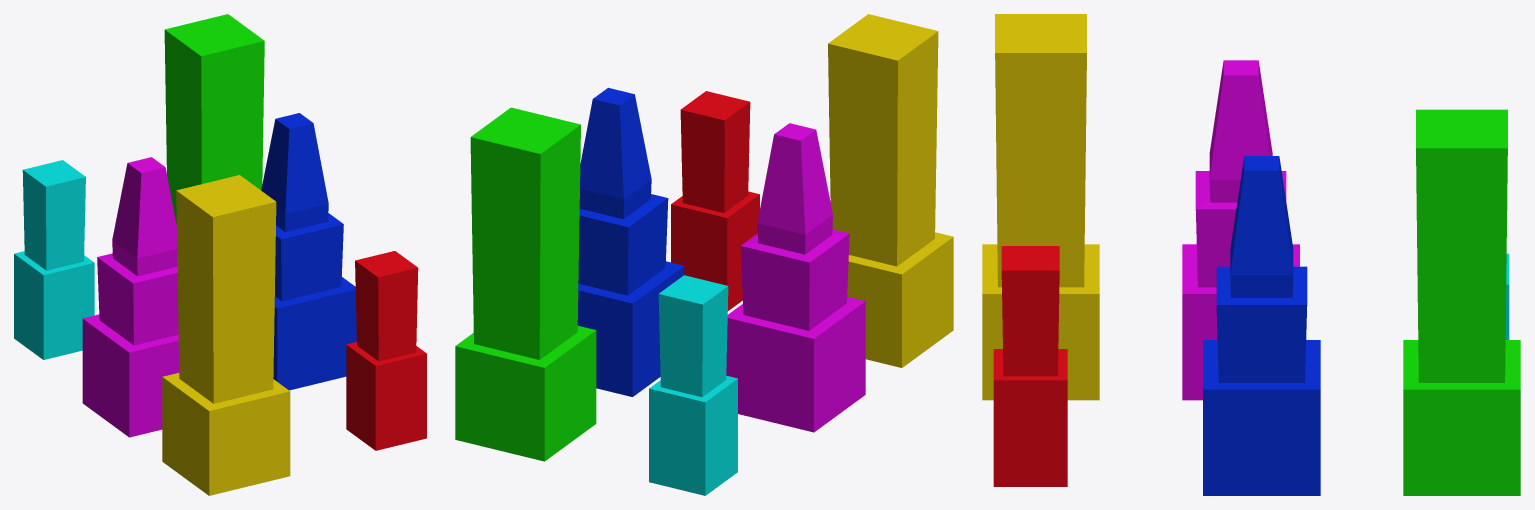
Rendered from materials.glb.
3 views of the same model, side by side, from view 1: azimuth 30°, elevation 25°; view 2: azimuth 150°, elevation 25°; view 3: azimuth 270°, elevation 25° (orthographic). The views are drawn at different scales.
Visible parts, largest first — view 1: Cube, Cube.001, Cube.004, Cube.003, Cube.005, Cube.002; view 2: Cube.003, Cube, Cube.001, Cube.004, Cube.002, Cube.005; view 3: Cube.003, Cube.004, Cube, Cube.005, Cube.001.
Boxes of the visible parts, left/top/right/bottom form: Cube: left=162, top=175, right=290, bottom=495; Cube.001: left=82, top=157, right=179, bottom=437; Cube.004: left=261, top=113, right=356, bottom=390; Cube.003: left=164, top=14, right=264, bottom=224; Cube.005: left=346, top=251, right=426, bottom=450; Cube.002: left=14, top=160, right=94, bottom=359; Cube.003: left=455, top=107, right=596, bottom=461; Cube: left=828, top=14, right=953, bottom=367; Cube.001: left=726, top=123, right=865, bottom=432; Cube.004: left=577, top=87, right=684, bottom=396; Cube.002: left=649, top=275, right=737, bottom=495; Cube.005: left=671, top=91, right=759, bottom=310; Cube.003: left=1403, top=109, right=1520, bottom=495; Cube.004: left=1203, top=156, right=1320, bottom=495; Cube: left=982, top=14, right=1099, bottom=400; Cube.005: left=993, top=246, right=1067, bottom=486; Cube.001: left=1182, top=60, right=1299, bottom=400.
Size of the model in its own units: 5.85 by 6.43 by 9.17.
